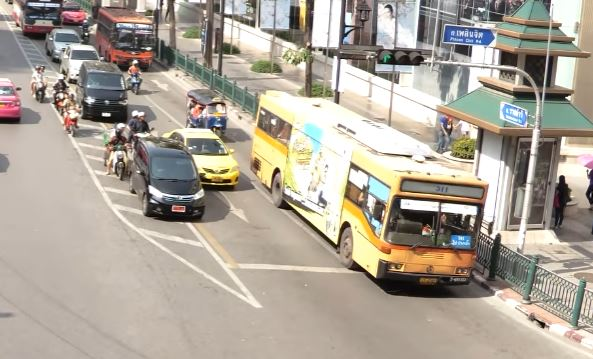Bus: (249, 88, 490, 287), (94, 5, 156, 68), (10, 1, 64, 34)
Car: (130, 136, 206, 218), (161, 128, 240, 186), (76, 60, 128, 119), (59, 43, 103, 80), (45, 28, 83, 59), (1, 77, 21, 119), (62, 4, 86, 24)
Motorcycle: (102, 122, 132, 182), (61, 93, 81, 138), (52, 73, 72, 112), (30, 64, 49, 103), (130, 109, 154, 138), (126, 59, 142, 95)
TukTuk: (186, 90, 228, 139)
